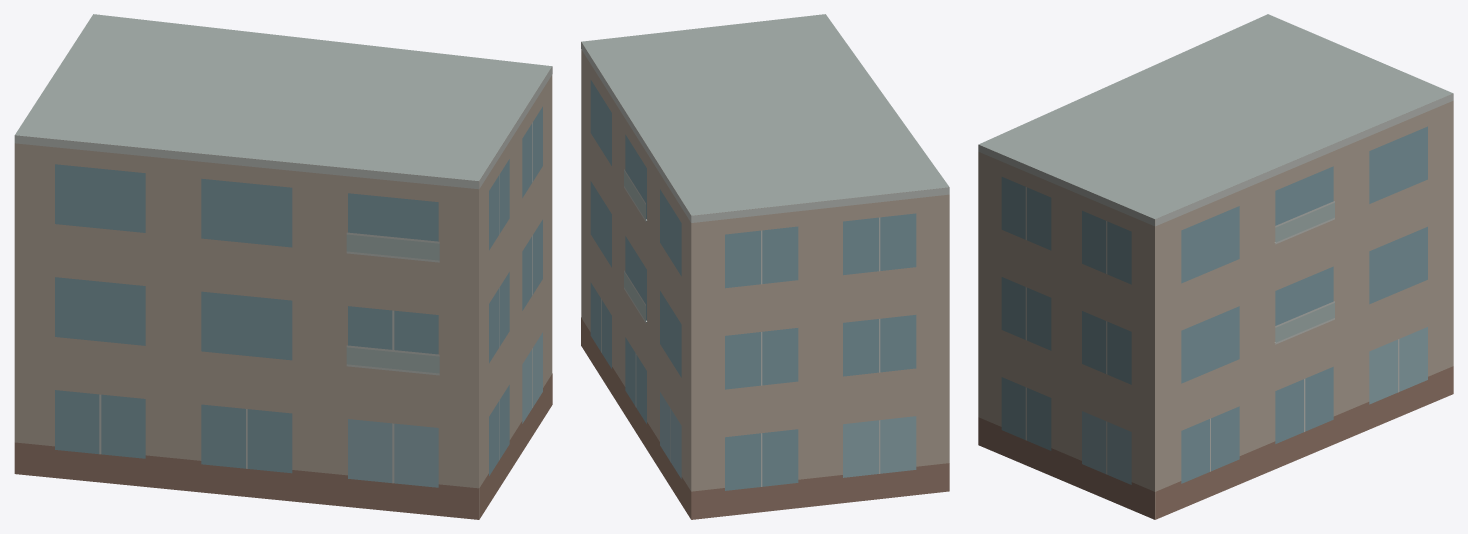
The model's file is survey-upis-32903330.glb.
The picture shows the model from 3 angles, left to right: view 1: azimuth 30°, elevation 25°; view 2: azimuth 150°, elevation 25°; view 3: azimuth 270°, elevation 25°; orthographic projection. The views are drawn at different scales.
Parts seen in each view (by area): view 1: survey-upis-32903330.tmp; view 2: survey-upis-32903330.tmp; view 3: survey-upis-32903330.tmp.
Part boxes in pixels (x1,y1,x2,y2): survey-upis-32903330.tmp: [14, 14, 552, 519]; survey-upis-32903330.tmp: [581, 14, 949, 519]; survey-upis-32903330.tmp: [978, 14, 1453, 519].
Bounding box in the file's own units: 14.95 × 10.2 × 14.62.
